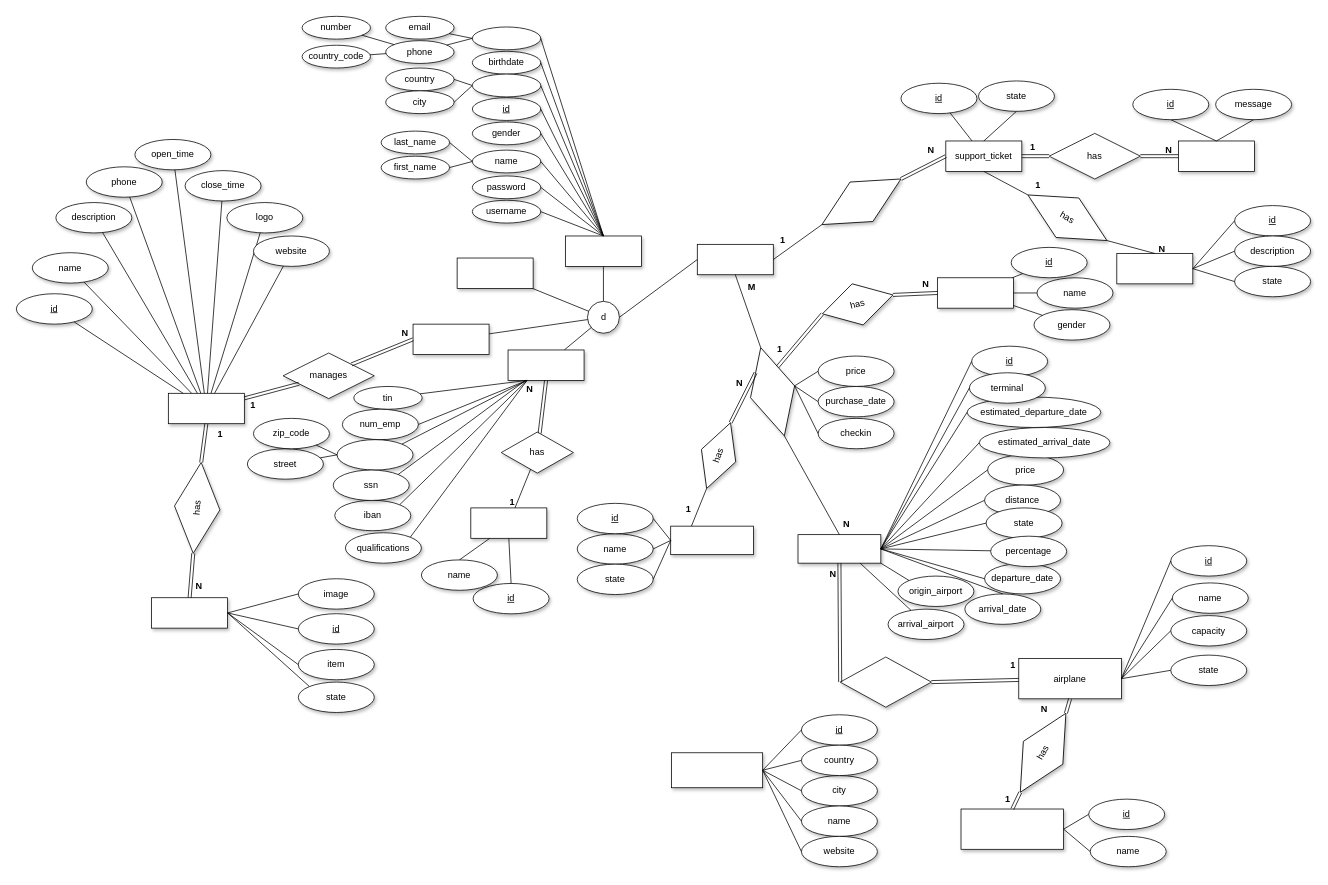
This 1328x885 diagram has some shape labels left out. The shapes that lost their labels are listed below. From the top down, each one's centre as x and y in pixels, then its label:
point 507,39: contacts
point 507,86: location
point 1217,157: ticket_messages
point 862,202: does
point 604,252: user
point 736,260: client
point 1155,269: lost_items
point 495,274: admin
point 976,294: passengers
point 451,340: manager
point 546,366: employee
point 207,409: restaurant
point 773,392: buys
point 375,455: address
point 509,524: function
point 712,541: payment_method
point 839,549: flight
point 190,613: restaurant_item
point 886,682: uses
point 717,771: airport
point 1012,830: company
